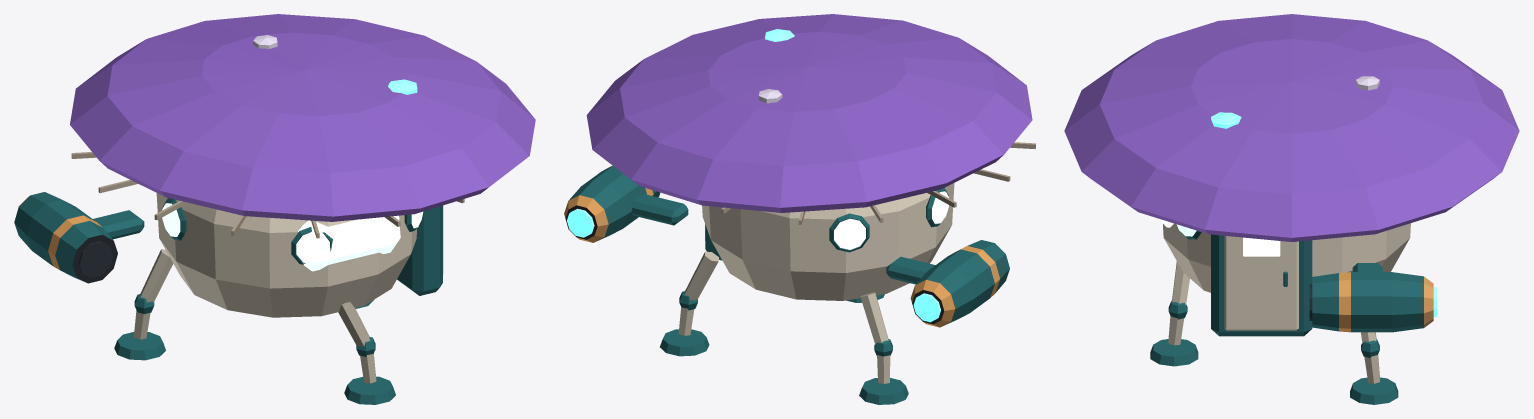
File: spo-p_gelandet.glb
The picture shows the model from 3 angles, left to right: view 1: azimuth 30°, elevation 25°; view 2: azimuth 150°, elevation 25°; view 3: azimuth 270°, elevation 25°; orthographic projection. The views are drawn at different scales.
Visible parts, largest first — view 1: pilzdach, kabine, triebwerk_r, frontfenster, türmodul, landebein_3, landebein_1, fenster, lamellen, strebe_r, kappenpunkte; view 2: pilzdach, kabine, triebwerk_r, triebwerk_l, landebein_3, landebein_2, fenster, strebe_l, strebe_r, lamellen, kappenpunkte; view 3: pilzdach, triebwerk_l, tür, kabine, türmodul, landebein_1, landebein_2, kappenpunkte.
Part boxes in pixels (left/top/right/bottom): pilzdach: left=70, top=14, right=535, bottom=221; kabine: left=156, top=193, right=416, bottom=317; triebwerk_r: left=14, top=192, right=117, bottom=283; frontfenster: left=298, top=215, right=400, bottom=271; türmodul: left=397, top=205, right=442, bottom=295; landebein_3: left=114, top=249, right=173, bottom=360; landebein_1: left=338, top=302, right=395, bottom=404; fenster: left=162, top=198, right=423, bottom=264; lamellen: left=71, top=152, right=464, bottom=238; strebe_r: left=93, top=210, right=144, bottom=239; kappenpunkte: left=253, top=35, right=417, bottom=94; pilzdach: left=586, top=14, right=1032, bottom=212; kabine: left=702, top=183, right=954, bottom=300; triebwerk_r: left=910, top=240, right=1009, bottom=327; triebwerk_l: left=564, top=165, right=660, bottom=242; landebein_3: left=859, top=292, right=908, bottom=404; landebein_2: left=660, top=251, right=718, bottom=356; fenster: left=829, top=188, right=948, bottom=252; strebe_l: left=631, top=194, right=688, bottom=225; strebe_r: left=886, top=256, right=935, bottom=284; lamellen: left=721, top=142, right=1035, bottom=224; kappenpunkte: left=758, top=29, right=794, bottom=103; pilzdach: left=1064, top=14, right=1519, bottom=241; triebwerk_l: left=1309, top=272, right=1437, bottom=332; tür: left=1224, top=236, right=1298, bottom=330; kabine: left=1163, top=223, right=1410, bottom=292; türmodul: left=1211, top=234, right=1312, bottom=336; landebein_1: left=1150, top=261, right=1198, bottom=366; landebein_2: left=1350, top=332, right=1398, bottom=404; kappenpunkte: left=1211, top=76, right=1379, bottom=128.
Bounding box in the file's own units: 0.1181 × 0.075 × 0.1125.
